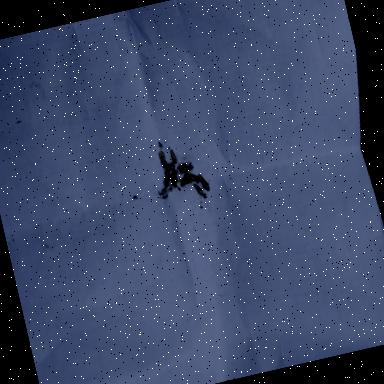pbw: (198, 172, 213, 192), (162, 164, 176, 184), (168, 148, 181, 166), (185, 170, 201, 184), (158, 150, 168, 170), (170, 168, 180, 188), (162, 184, 174, 198), (180, 178, 194, 190), (194, 182, 204, 198), (180, 165, 195, 174)
